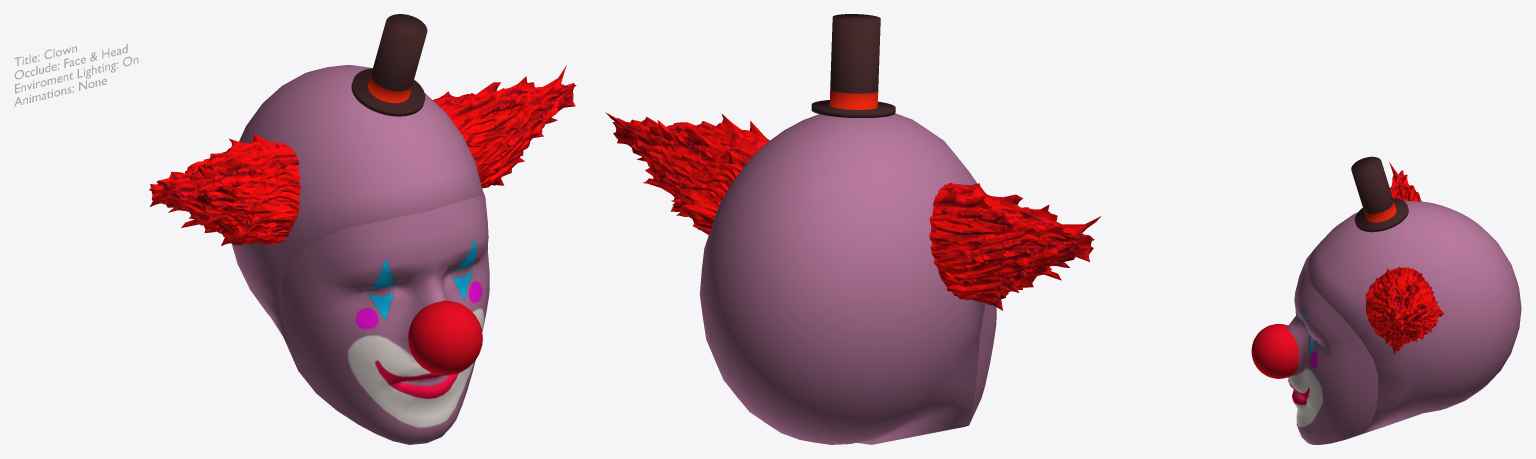
Rendered from Clown.glb.
3 views of the same model, side by side, from view 1: azimuth 30°, elevation 25°; view 2: azimuth 150°, elevation 25°; view 3: azimuth 270°, elevation 25° (orthographic). The views are drawn at different scales.
Parts seen in each view (by area): view 1: OccluderHead, OccluderFace, ClownHairL, Clown, ClownHairR, Tophat, ClownNose, _Clown; view 2: OccluderHead, ClownHairL, ClownHairR, Tophat, OccluderFace; view 3: OccluderHead, OccluderFace, ClownHairR, Tophat, ClownNose, Clown, ClownHairL.
Boxes of the visible parts, x1,y1,x2,y2 form: OccluderHead: (232,65,484,366); OccluderFace: (281,196,489,444); ClownHairL: (149,133,301,245); Clown: (347,238,483,427); ClownHairR: (433,65,576,188); Tophat: (351,14,427,116); ClownNose: (408,300,482,375); _Clown: (14,44,138,106); OccluderHead: (699,113,985,444); ClownHairL: (929,183,1101,310); ClownHairR: (605,112,769,234); Tophat: (811,14,895,117); OccluderFace: (969,303,996,423); OccluderHead: (1304,200,1521,438); OccluderFace: (1287,260,1377,444); ClownHairR: (1365,267,1444,354); Tophat: (1351,156,1408,232); ClownNose: (1251,324,1298,378); Clown: (1288,310,1322,427); ClownHairL: (1389,162,1421,201).
Size of the model in its own units: 43.77 by 31.28 by 25.22.
Materials: 6 (2 with a texture image).
